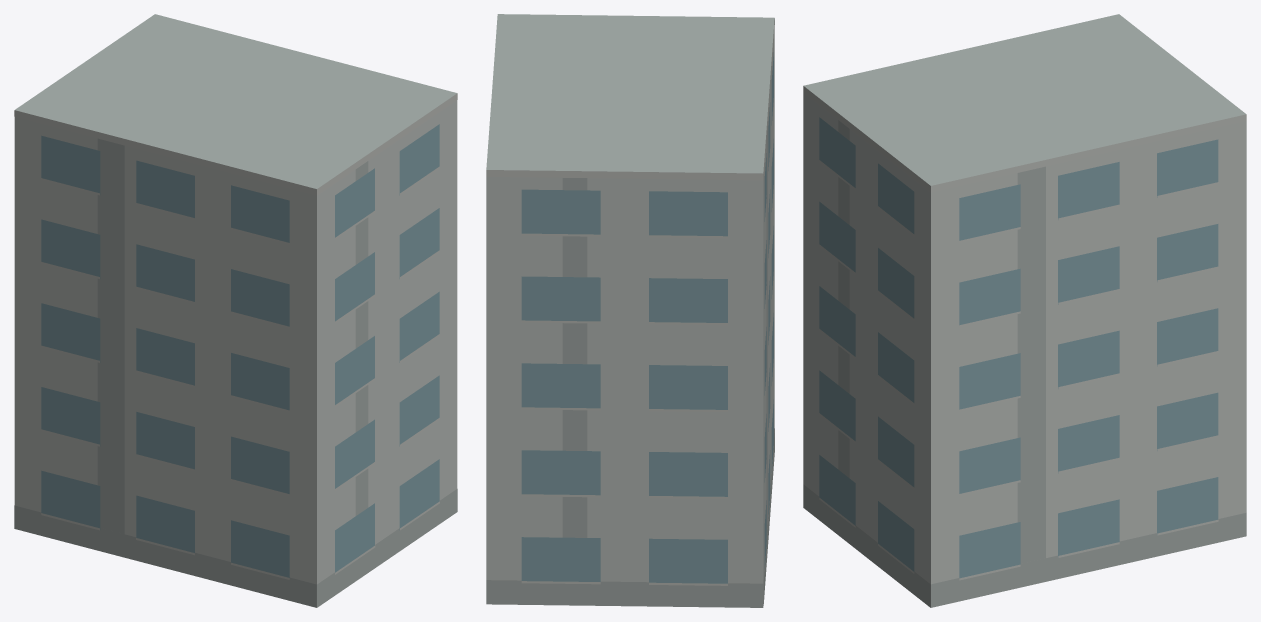
File: residential-a0e6f047-3a8a-4f59-a20c-6ebb817b5e3c.glb
3 views of the same model, side by side, from view 1: azimuth 30°, elevation 25°; view 2: azimuth 150°, elevation 25°; view 3: azimuth 270°, elevation 25° (orthographic). The views are drawn at different scales.
Visible parts, largest first — view 1: residential-a0e6f047-3a8a-4f59-a20c-6ebb817b5e3c.tmp; view 2: residential-a0e6f047-3a8a-4f59-a20c-6ebb817b5e3c.tmp; view 3: residential-a0e6f047-3a8a-4f59-a20c-6ebb817b5e3c.tmp.
Part boxes in pixels (x1=…): residential-a0e6f047-3a8a-4f59-a20c-6ebb817b5e3c.tmp: x1=14, y1=14, x2=457, y2=607; residential-a0e6f047-3a8a-4f59-a20c-6ebb817b5e3c.tmp: x1=486, y1=14, x2=774, y2=607; residential-a0e6f047-3a8a-4f59-a20c-6ebb817b5e3c.tmp: x1=803, y1=14, x2=1246, y2=607.
Size of the model in its own units: 13.33 by 15.25 by 14.53.
